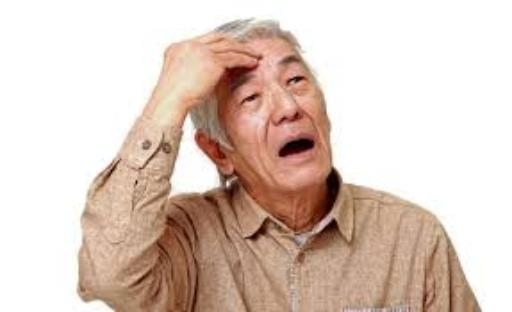left_eye: (287, 76, 310, 88)
left_lip_corner: (311, 137, 324, 148), (274, 149, 285, 160)
right_eye: (242, 93, 261, 106)
